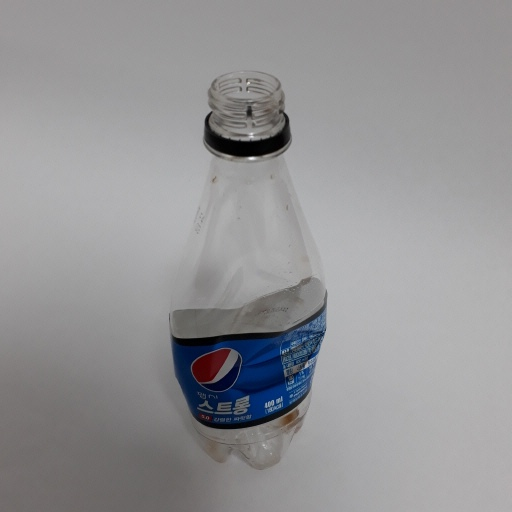Plastic_0: (164, 70, 330, 472)
